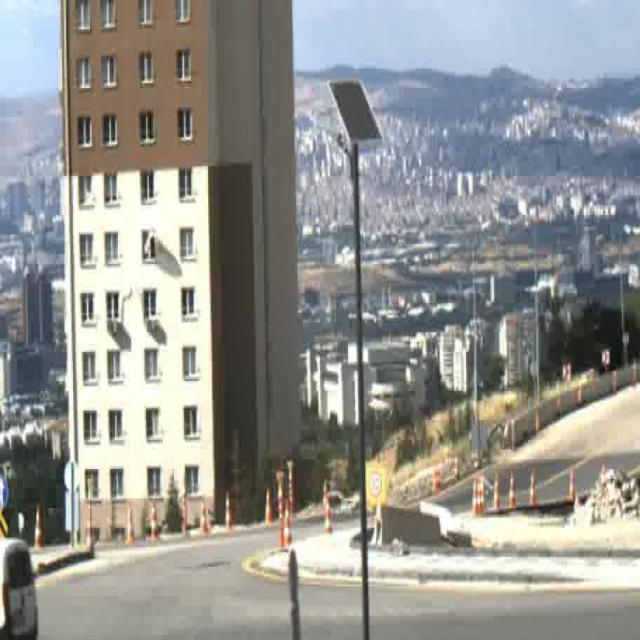Car: (0, 532, 38, 640)
